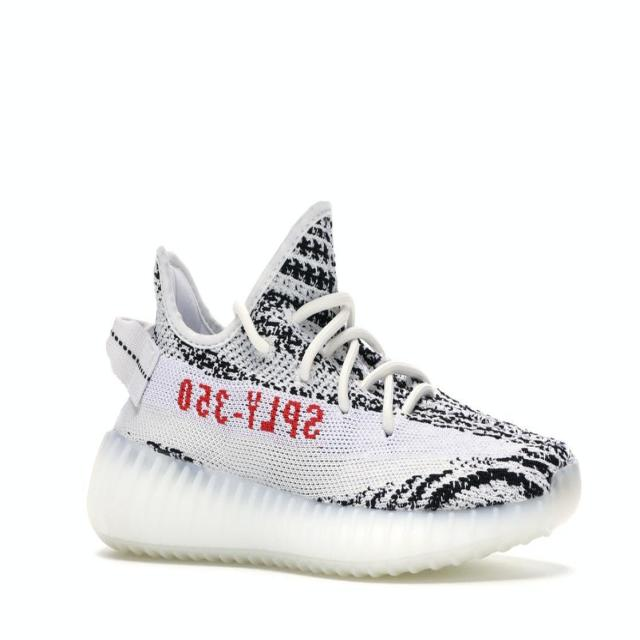shoe: (84, 191, 582, 579)
